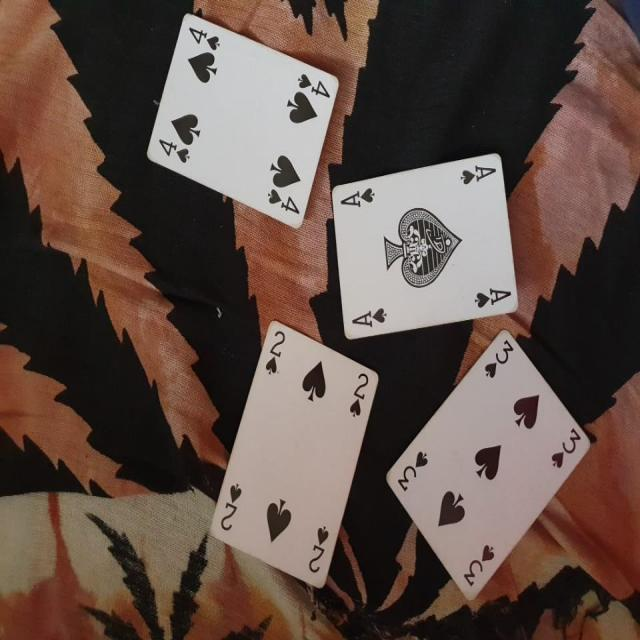2 Spades: (209, 324, 381, 586)
3 Spades: (385, 330, 589, 599)
4 Spades: (140, 14, 338, 222)
A Spades: (329, 150, 521, 334)
